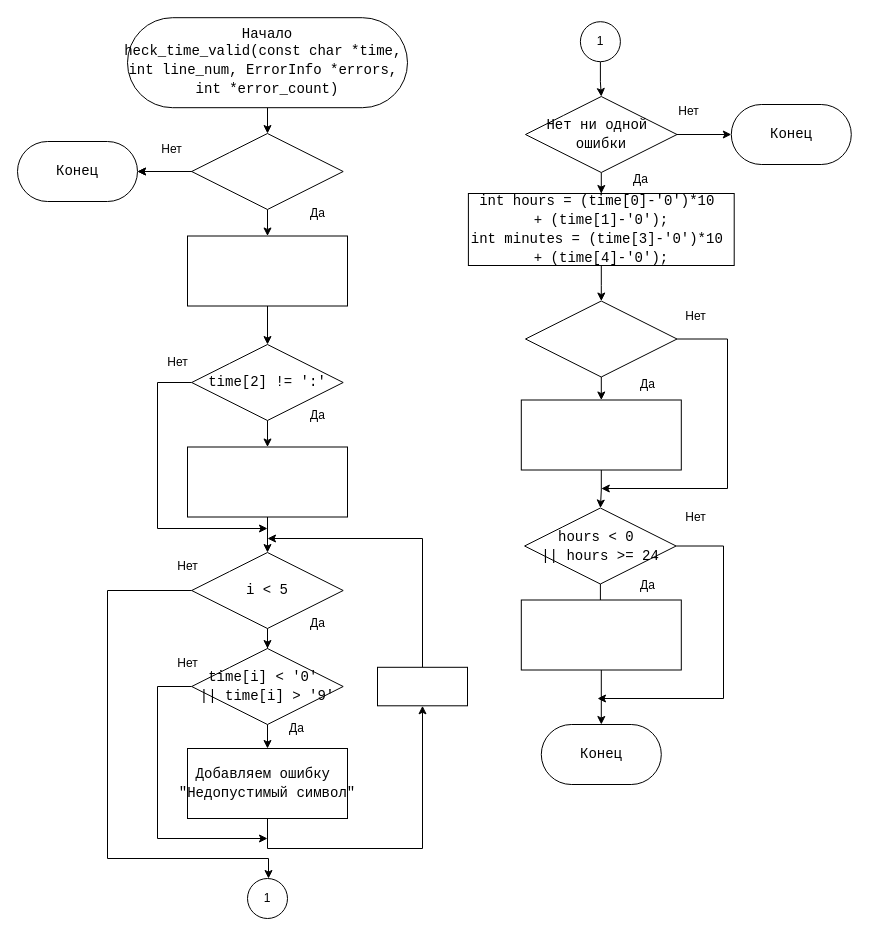
The diagram is 869 pixels wide and 936 high, and some of its shapes have lost their labels. The shapes that lost their labels are listed below. From the top down, each one's centre as x and y in pixels, then its label:
[267,171]: strlen(time) != 5
[267,270]: Добавляем ошибку "Неправильная длина"
[600,338]: minutes < 0 || minutes >= 60
[600,434]: Добавляем ошибку " Часы должны быть в диапазоне 00-23 "
[267,481]: Добавляем ошибку " Неправильный разделитель "
[600,634]: Добавляем ошибку " Минуты должны быть в диапазоне 00-59 "
[422,686]: i++
